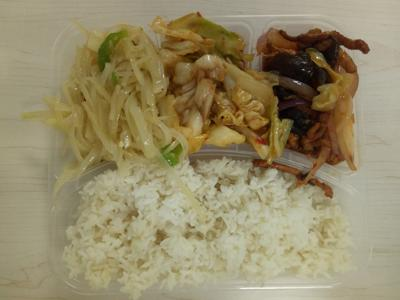rice: (68, 164, 360, 284)
